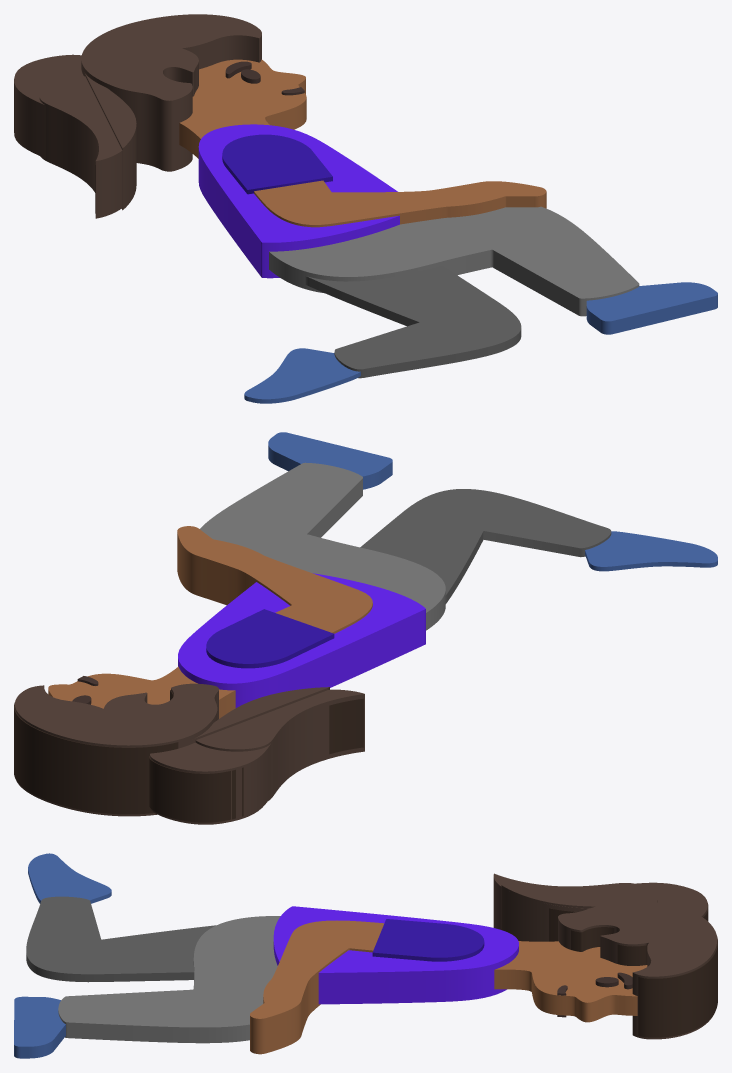
File: emoji_u1f9ce_1f3fe_200d_2640_200d_27a1.glb
3 views of the same model, one above another, from view 1: azimuth 30°, elevation 25°; view 2: azimuth 150°, elevation 25°; view 3: azimuth 270°, elevation 25° (orthographic). The views are drawn at different scales.
Parts seen in each view (by area): view 1: emoji_u1f9ce_1f3fe_200d_2640_200d_27a1; view 2: emoji_u1f9ce_1f3fe_200d_2640_200d_27a1; view 3: emoji_u1f9ce_1f3fe_200d_2640_200d_27a1.
Part boxes in pixels (left/top/right/bottom): emoji_u1f9ce_1f3fe_200d_2640_200d_27a1: left=14, top=14, right=717, bottom=403; emoji_u1f9ce_1f3fe_200d_2640_200d_27a1: left=14, top=432, right=717, bottom=824; emoji_u1f9ce_1f3fe_200d_2640_200d_27a1: left=14, top=853, right=717, bottom=1058.
Size of the model in its own units: 0.0215 by 0.0032 by 0.0325.
